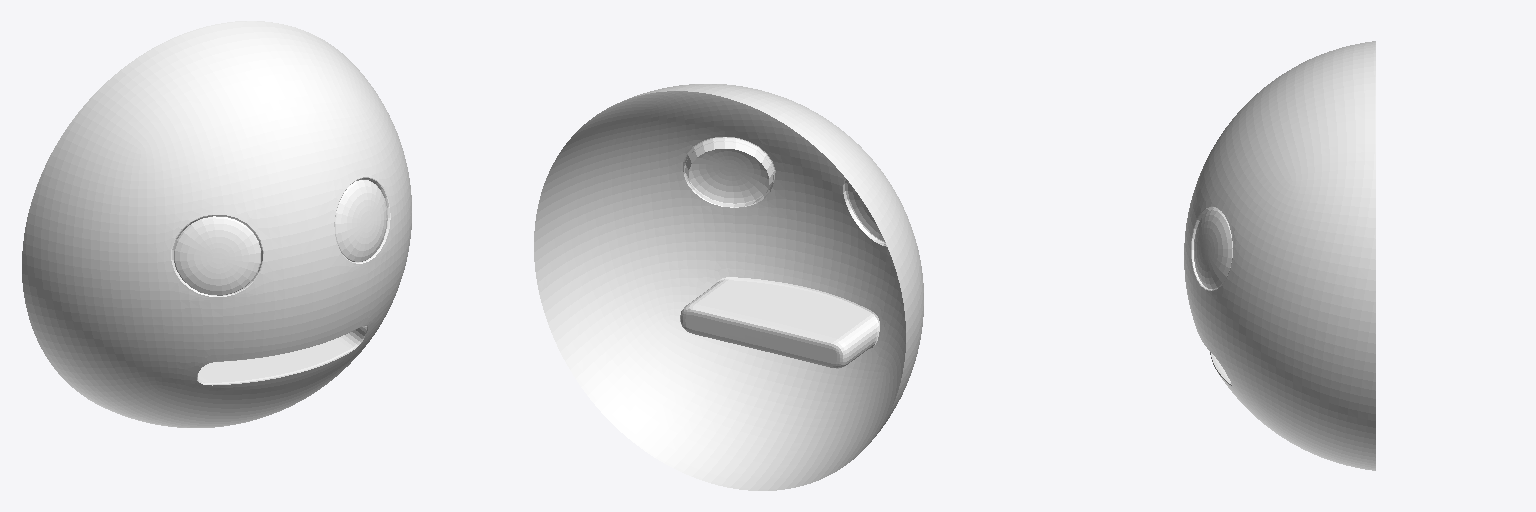
3 views of the same model, side by side, from view 1: azimuth 30°, elevation 25°; view 2: azimuth 150°, elevation 25°; view 3: azimuth 270°, elevation 25° (orthographic).
Parts seen in each view (by area): view 1: emoji_064; view 2: emoji_064; view 3: emoji_064.
Boxes of the visible parts, <box> form: emoji_064: <box>22,21,411,427</box>; emoji_064: <box>534,84,923,490</box>; emoji_064: <box>1184,41,1375,470</box>.
Bounding box in the file's own units: 19.39 × 19.4 × 8.66.